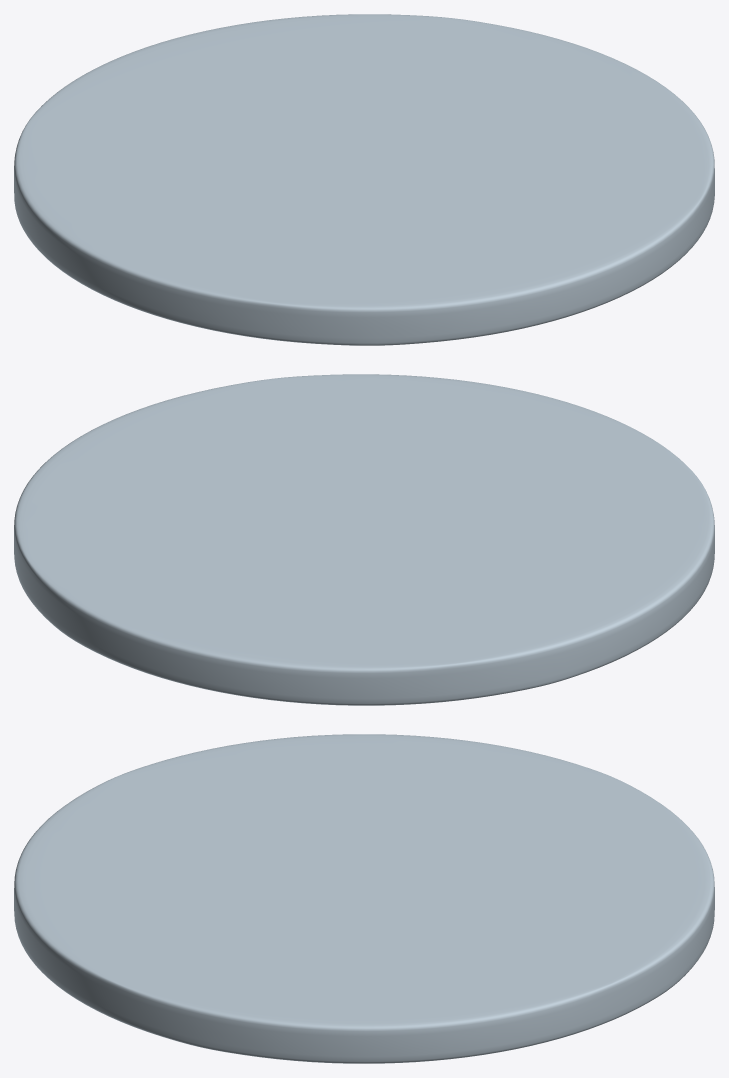
File: coin_single_angled_v3_optimize.glb
3 renders of one model, top to bottom at view 1: azimuth 30°, elevation 25°; view 2: azimuth 150°, elevation 25°; view 3: azimuth 270°, elevation 25°, orthographic.
Parts seen in each view (by area): view 1: Cylinder.041; view 2: Cylinder.041; view 3: Cylinder.041.
Part boxes in pixels (x1,y1,x2,y2): Cylinder.041: (14,14,714,345); Cylinder.041: (14,374,714,705); Cylinder.041: (14,734,714,1063).
Size of the model in its own units: 6.79 by 0.4158 by 6.79.
